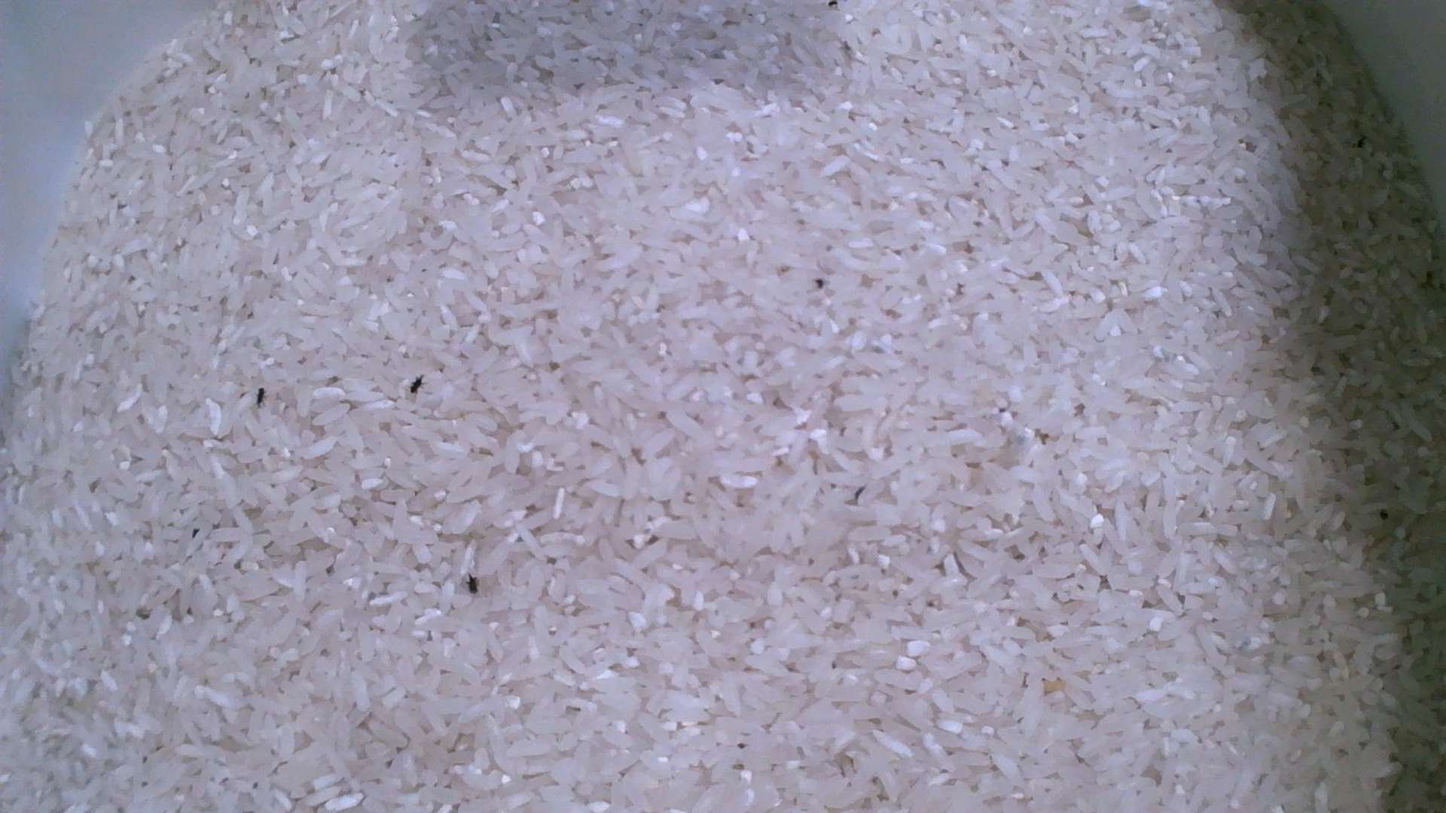Sitophilus-Oryzae: (410, 375, 424, 394), (256, 387, 266, 406), (467, 574, 477, 593)
